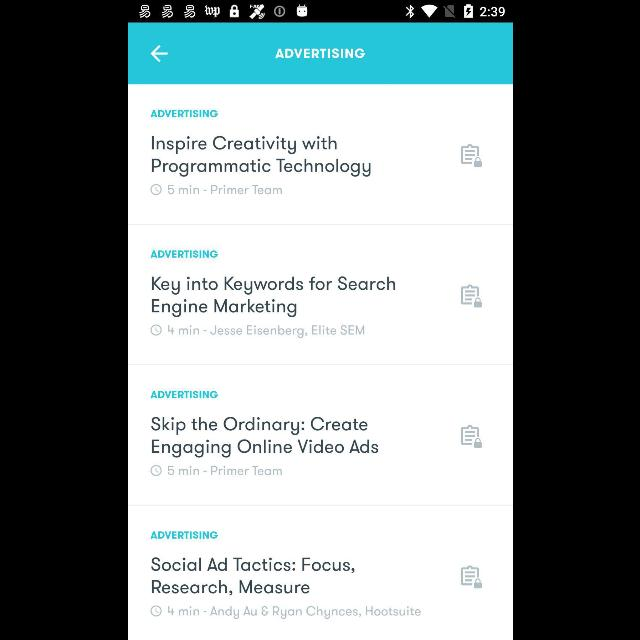icon: (460, 565, 482, 589), (460, 144, 482, 168), (460, 284, 482, 308), (461, 424, 482, 448), (150, 46, 168, 62), (150, 605, 162, 617), (149, 465, 161, 477), (150, 324, 162, 336), (150, 184, 162, 196)
text: (151, 276, 395, 318), (150, 417, 378, 458), (150, 136, 370, 176), (150, 556, 354, 596), (168, 606, 420, 620), (168, 325, 364, 339), (167, 184, 281, 196), (167, 466, 281, 476), (274, 49, 364, 59), (150, 531, 218, 539), (150, 390, 218, 398), (150, 250, 218, 258), (150, 110, 218, 118)
toolbar: (128, 24, 512, 84)
uppertaskbar: (128, 1, 512, 23)
